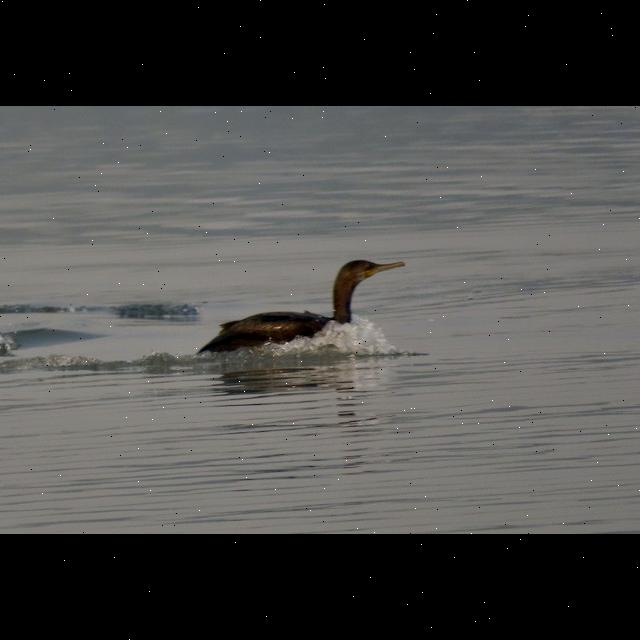cormorant: (199, 258, 407, 352)
